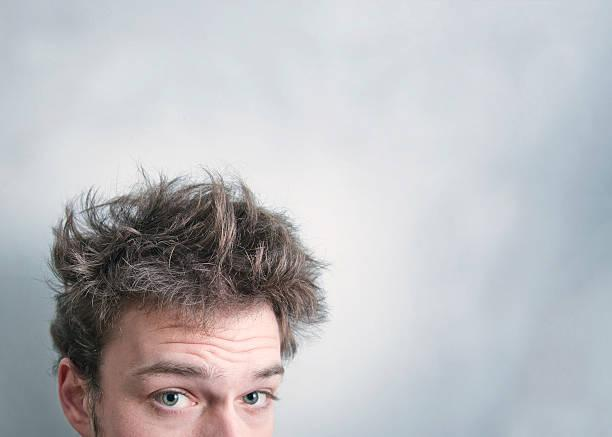dry hair: (89, 233, 220, 289), (155, 185, 246, 221), (271, 283, 320, 329), (63, 247, 82, 318), (244, 238, 280, 267), (171, 301, 246, 313)
